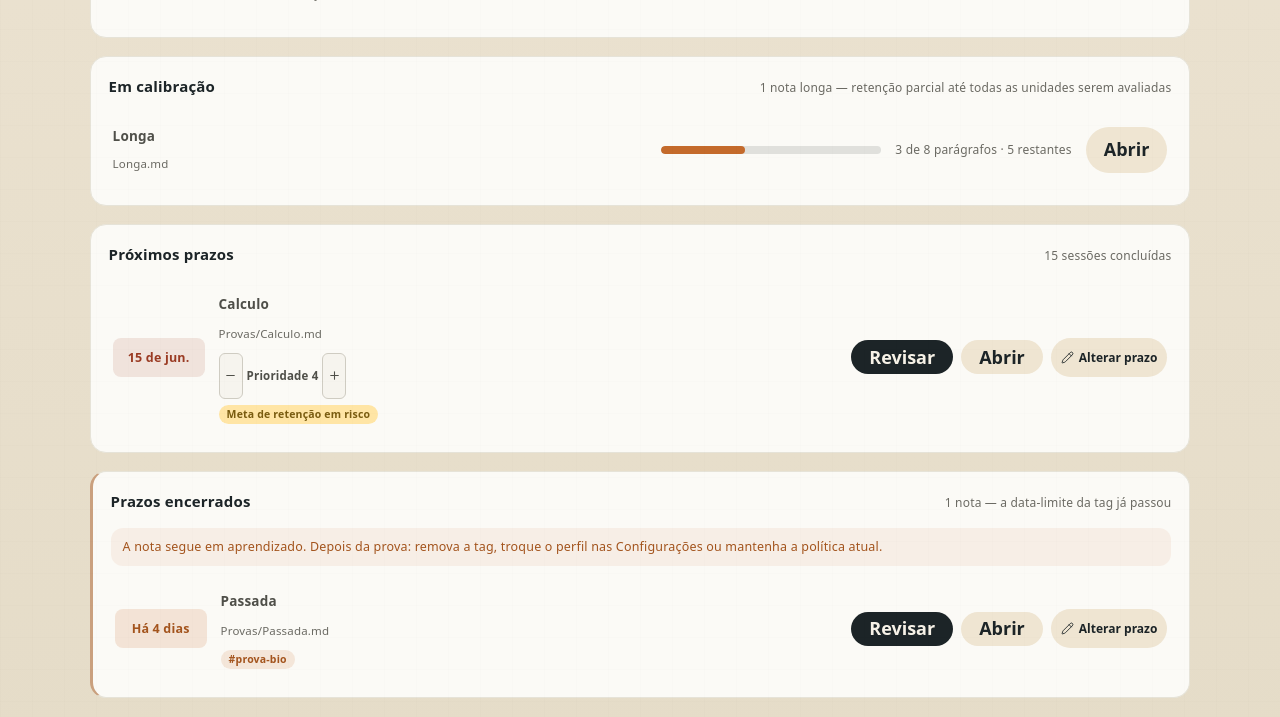
Test: ReviewDashboardPage › hides the confirm button until the impact has been previewed
(page scrolled)
Click the button with aria-label "Alterar prazo de Calculo": (1109, 357) 1051,338 -> 1167,377
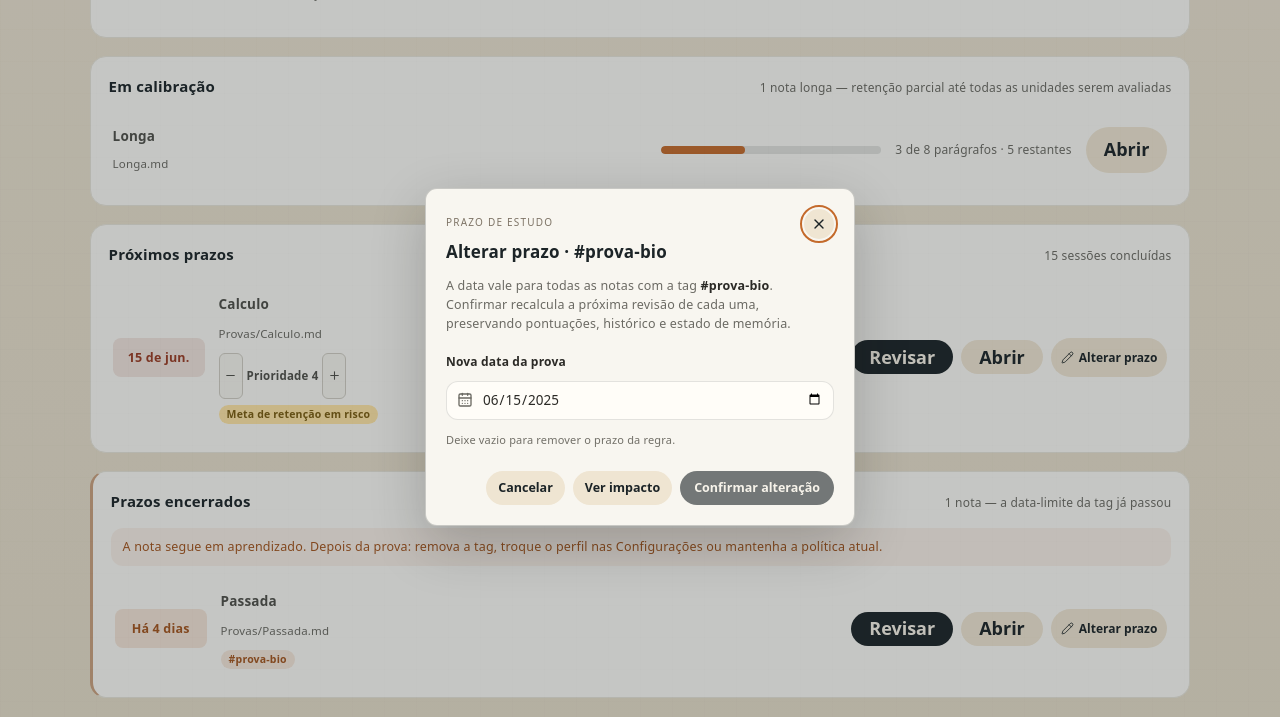
Now the button "Confirmar alteração" is disabled, box 680,471 -> 834,505
In the date field labelled "Nova data da prova": (652, 400) 481,390 -> 823,411, type "2030-05-05"
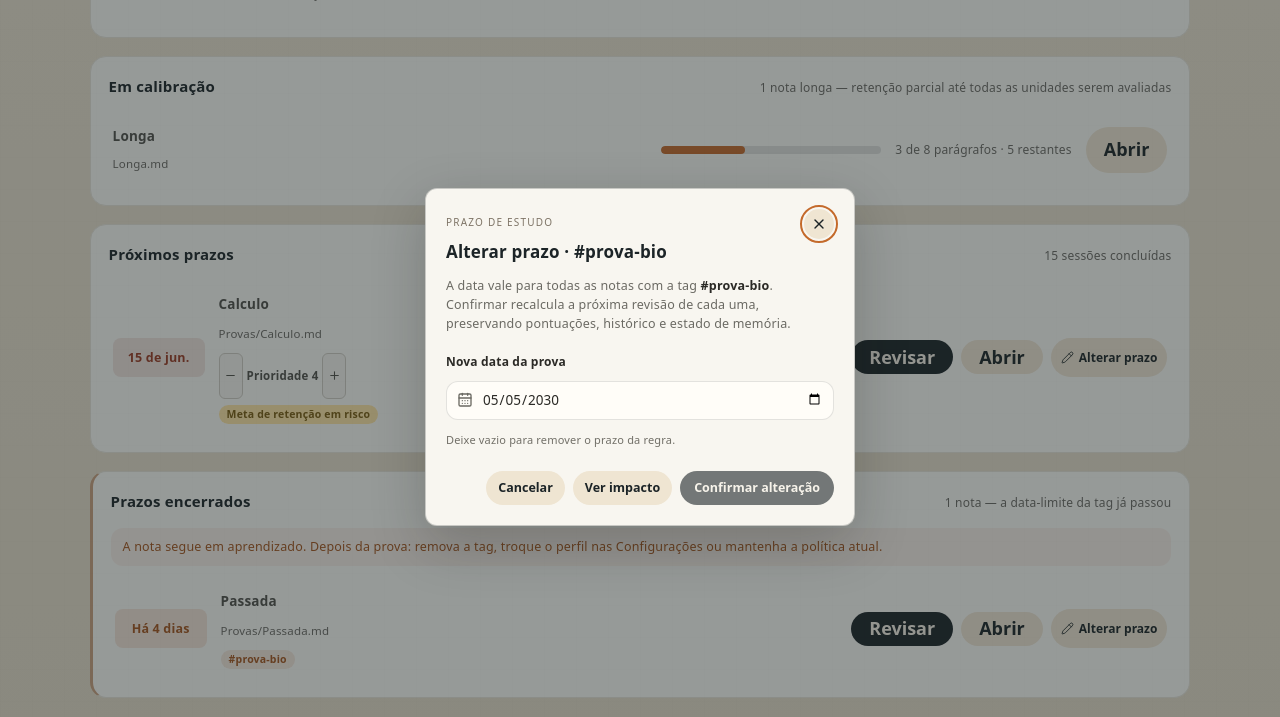
Click the button "Ver impacto": (622, 488) 573,471 -> 672,505
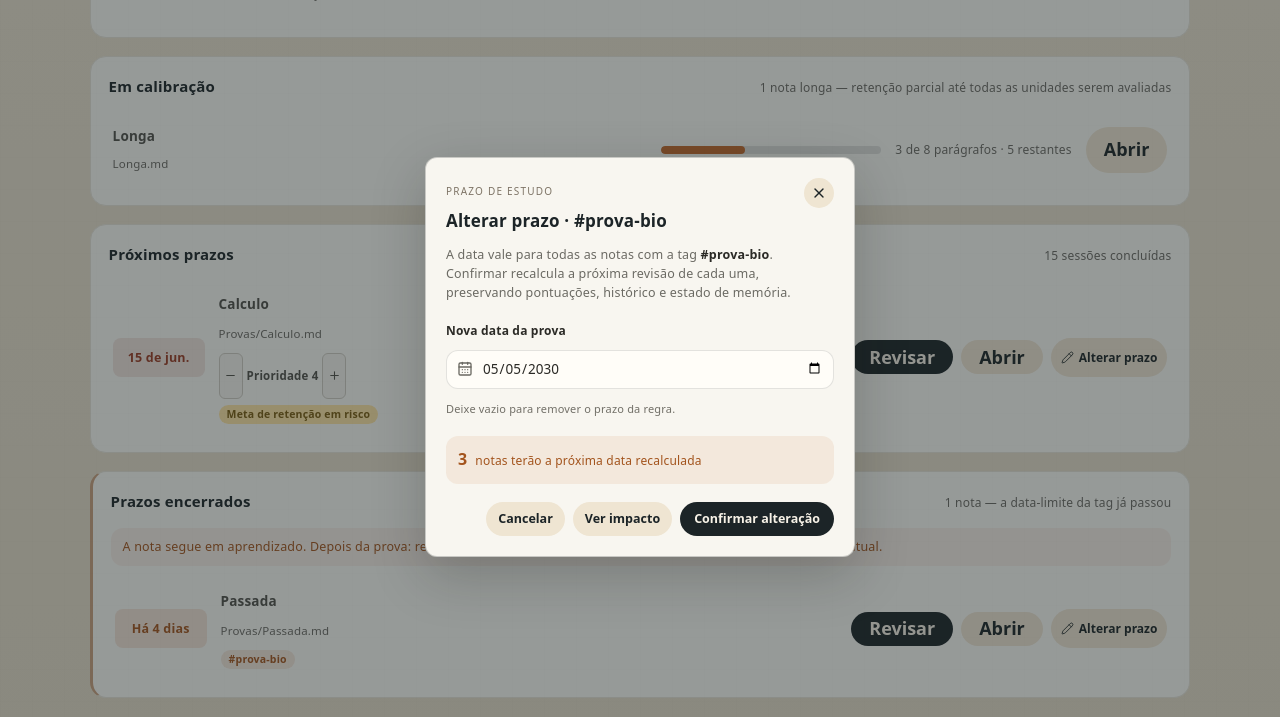
Now the button "Confirmar alteração" is enabled, box 680,502 -> 834,536
